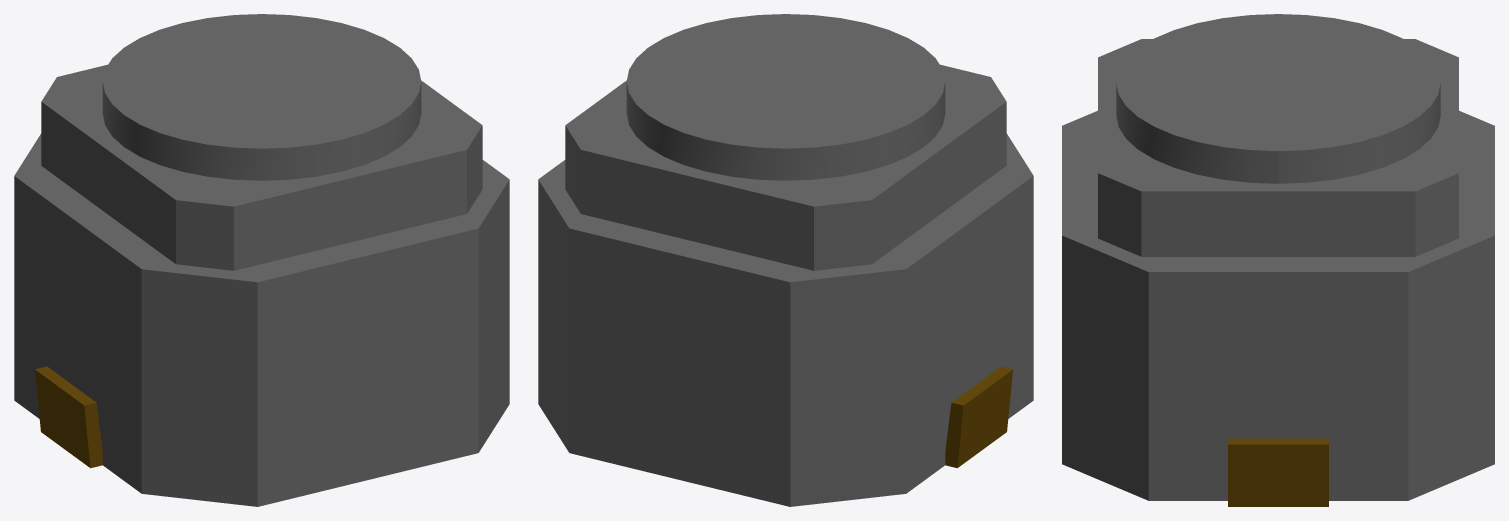
File: kc-sw_push_1ts009xxxx-xxxx-xxxx_6x6x5mm.glb
3 views of the same model, side by side, from view 1: azimuth 30°, elevation 25°; view 2: azimuth 150°, elevation 25°; view 3: azimuth 270°, elevation 25° (orthographic).
Visible parts, largest first — view 1: 0.16666666666666666_0.16666666666666666_0.16666666666666666_, 0.16666666666666666_0.08333333333333333_0_0; view 2: 0.16666666666666666_0.16666666666666666_0.16666666666666666_, 0.16666666666666666_0.08333333333333333_0_0; view 3: 0.16666666666666666_0.16666666666666666_0.16666666666666666_, 0.16666666666666666_0.08333333333333333_0_0.
Part boxes in pixels (bbox=[...]): 0.16666666666666666_0.16666666666666666_0.16666666666666666_: bbox=[14, 14, 509, 506]; 0.16666666666666666_0.08333333333333333_0_0: bbox=[35, 366, 102, 468]; 0.16666666666666666_0.16666666666666666_0.16666666666666666_: bbox=[538, 14, 1033, 506]; 0.16666666666666666_0.08333333333333333_0_0: bbox=[945, 366, 1012, 468]; 0.16666666666666666_0.16666666666666666_0.16666666666666666_: bbox=[1062, 14, 1494, 500]; 0.16666666666666666_0.08333333333333333_0_0: bbox=[1228, 438, 1328, 506].
Size of the model in its own units: 0.66 by 0.5 by 0.6.
